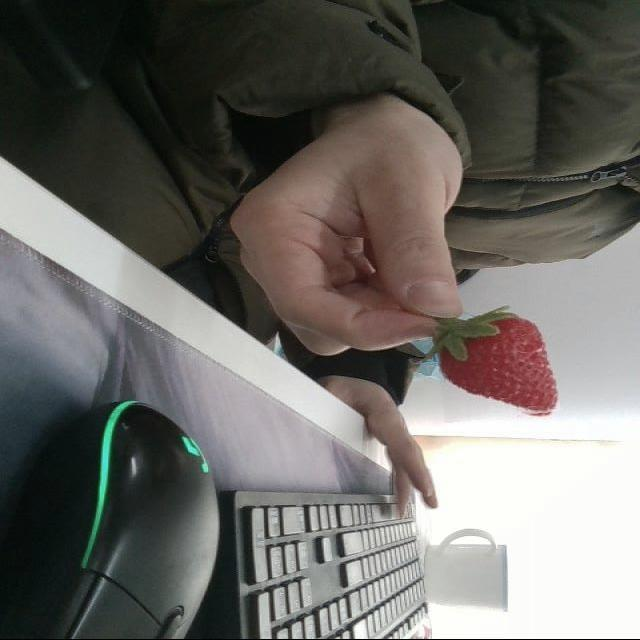strawberry: (436, 316, 558, 421)
